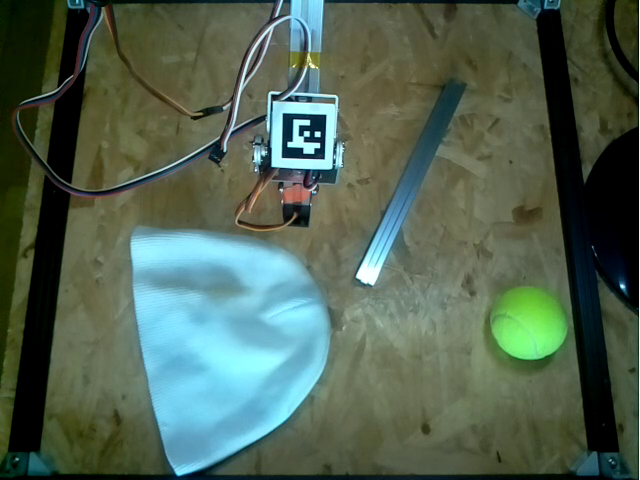tennis_ball: (489, 285, 568, 362)
